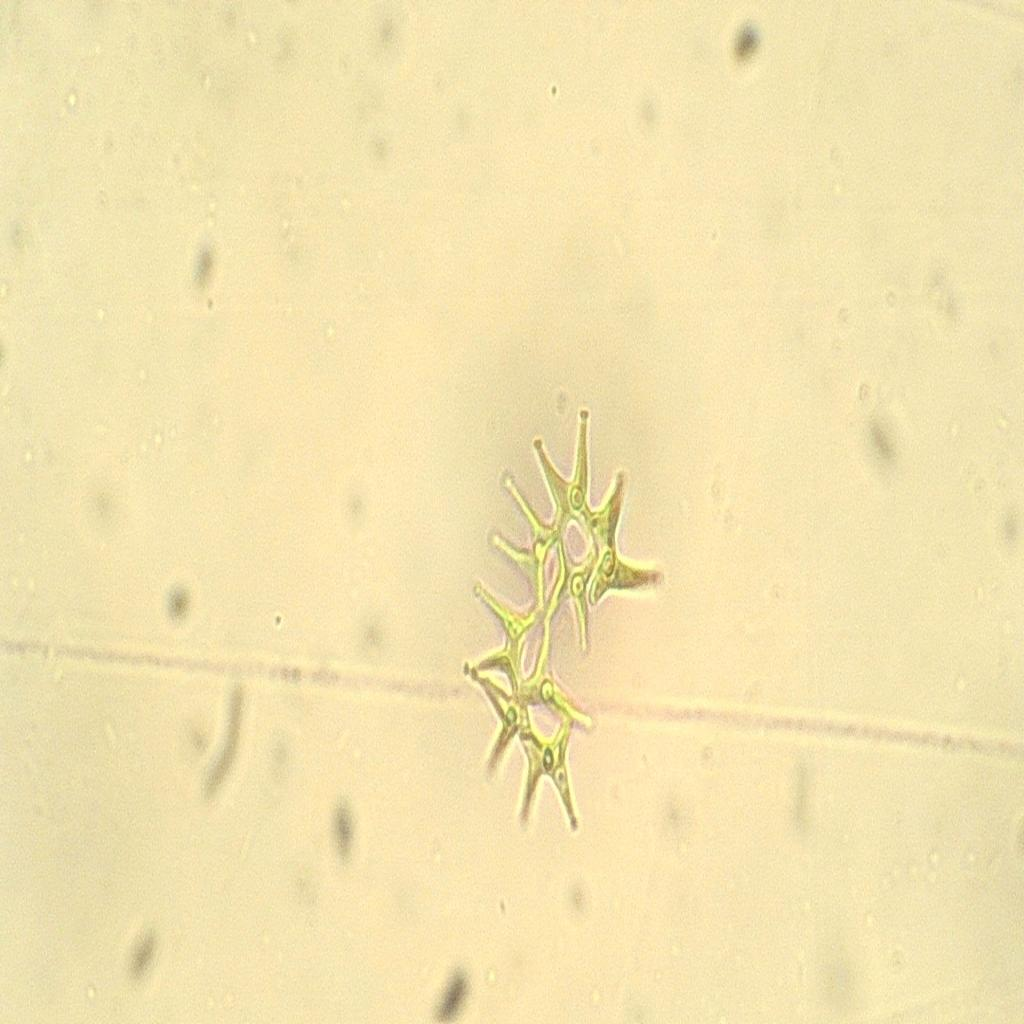Pediastrum_CFI: (449, 389, 671, 870)
